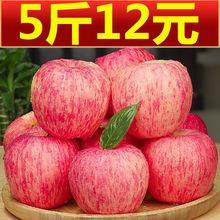apple: (110, 59, 194, 139), (31, 57, 110, 138), (69, 141, 153, 215), (5, 132, 79, 209), (142, 129, 219, 202), (3, 111, 56, 148), (94, 49, 157, 75)
